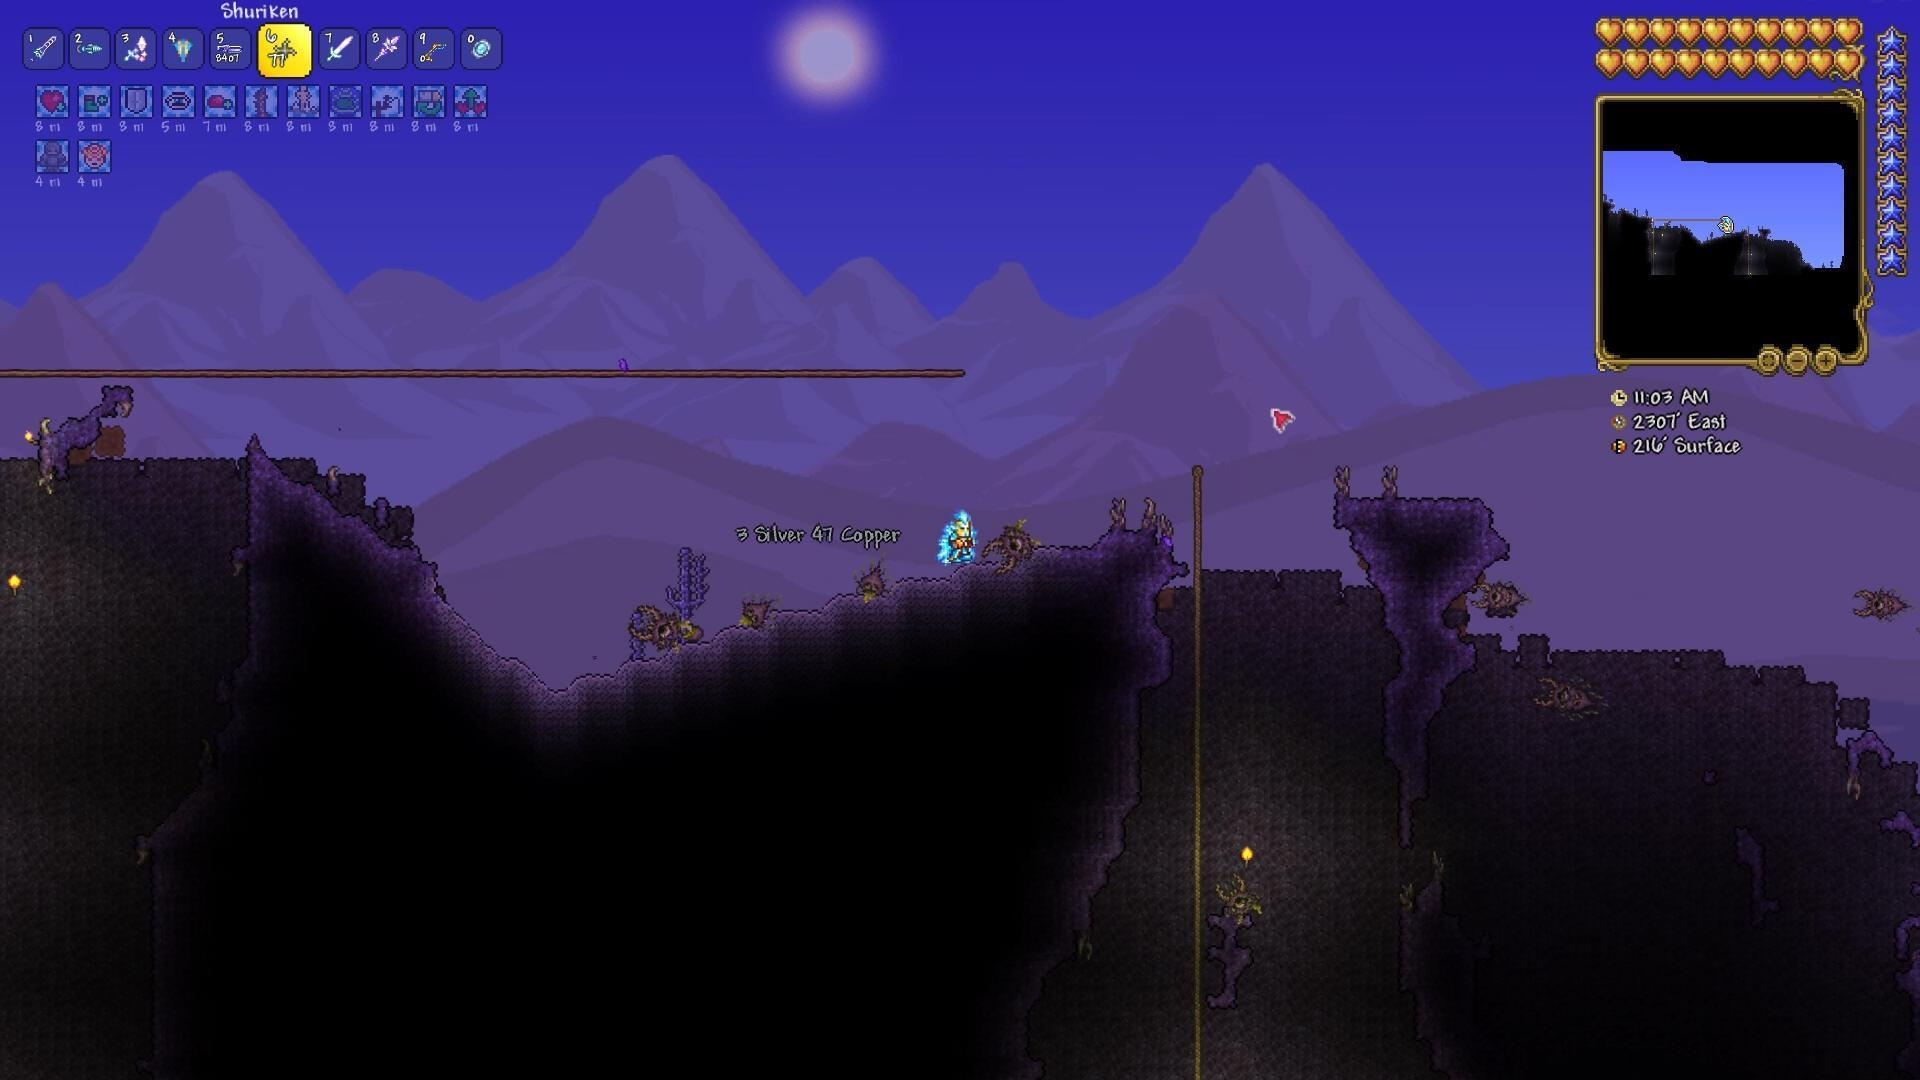crimera: (1531, 661, 1601, 725), (1841, 571, 1915, 632), (1469, 568, 1531, 618)
